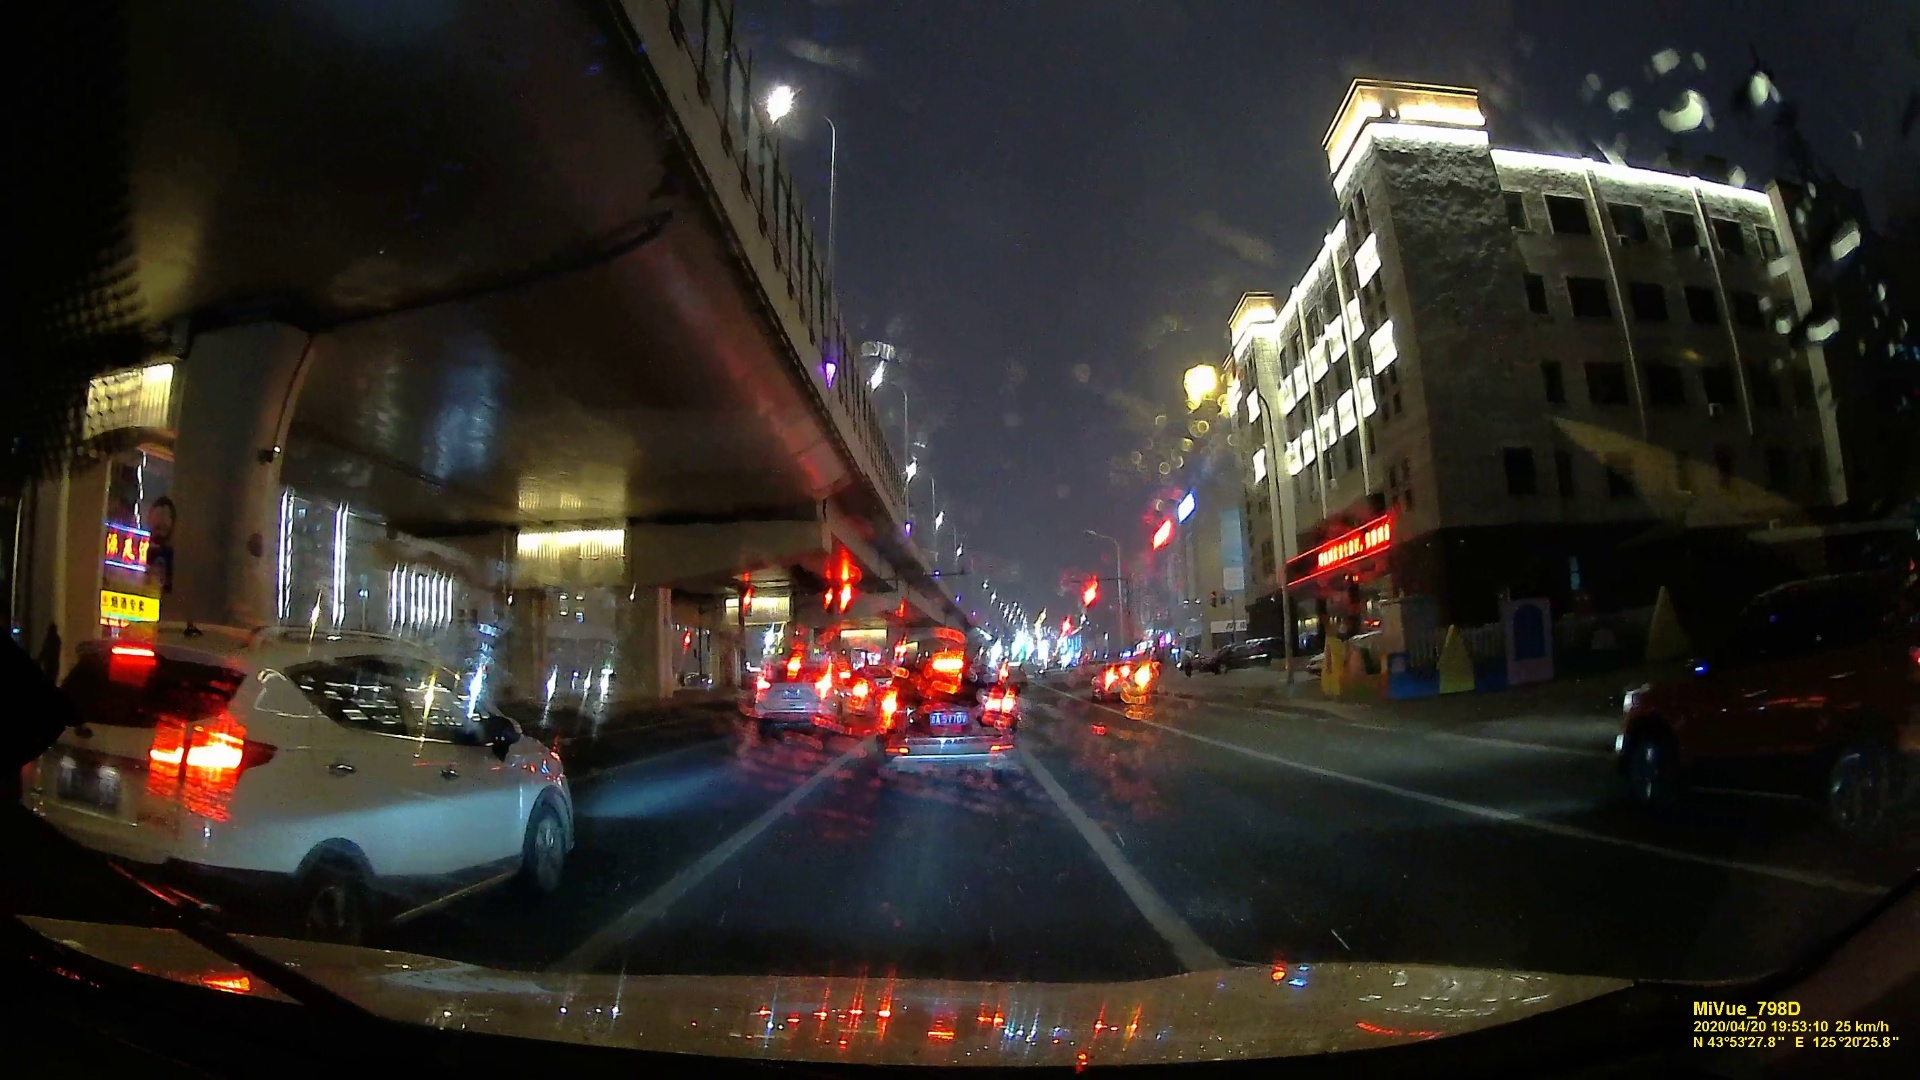traffic_sign: (1610, 560, 1913, 849), (876, 653, 1021, 781)
vehicle: (30, 636, 578, 928), (753, 665, 837, 728), (1092, 657, 1156, 705)
